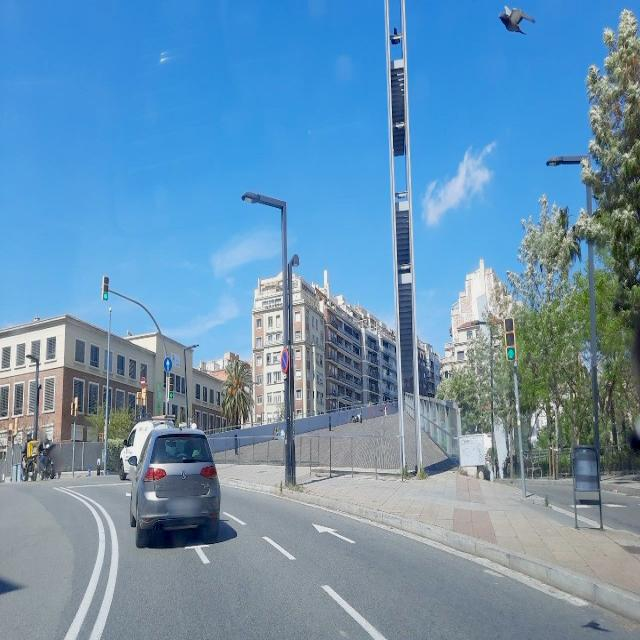bike: (39, 444, 55, 480), (21, 453, 38, 481)
car: (130, 424, 221, 547), (119, 416, 177, 482)
